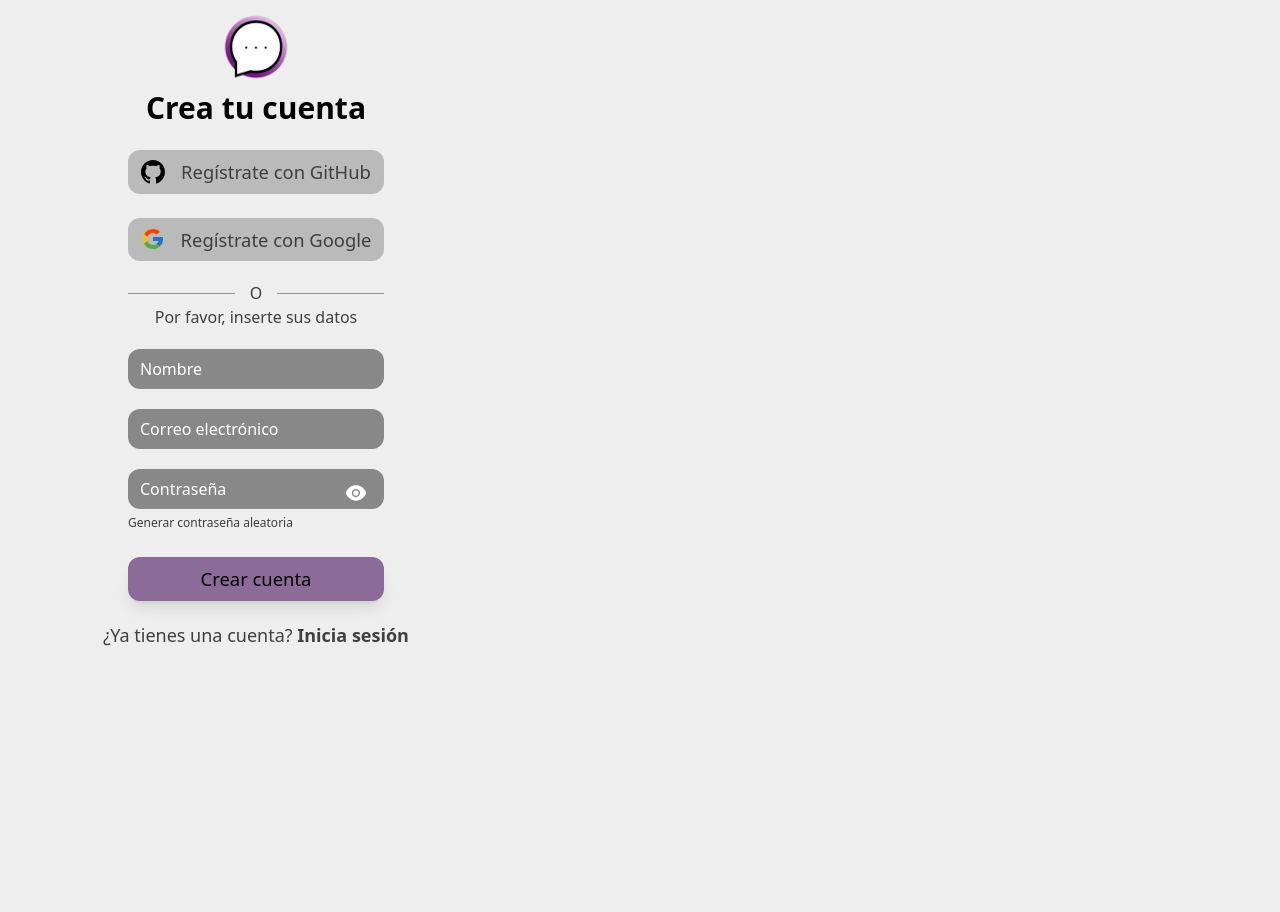
Test: Register › check that email error appear in the document if value of input not have an email format
Step 1. Type "notFormatEmail" into the field with placeholder "Correo electrónico" → (256, 429), box [128, 409, 384, 449]
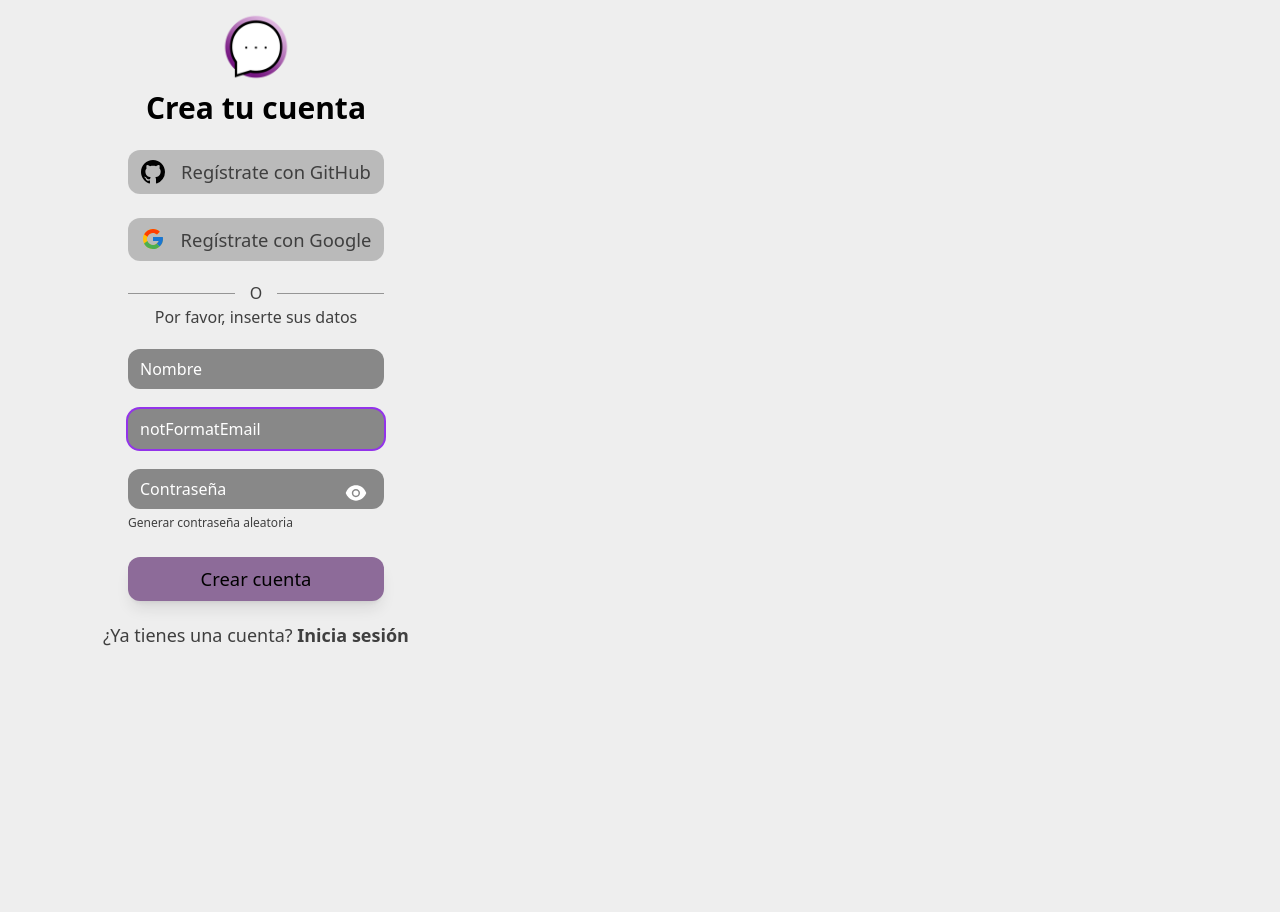
// Hacemos clic fuera del input
Step 2. Click the element that starts with "Crea tu cuenta" → click(640, 330), box [0, 12, 1279, 649]
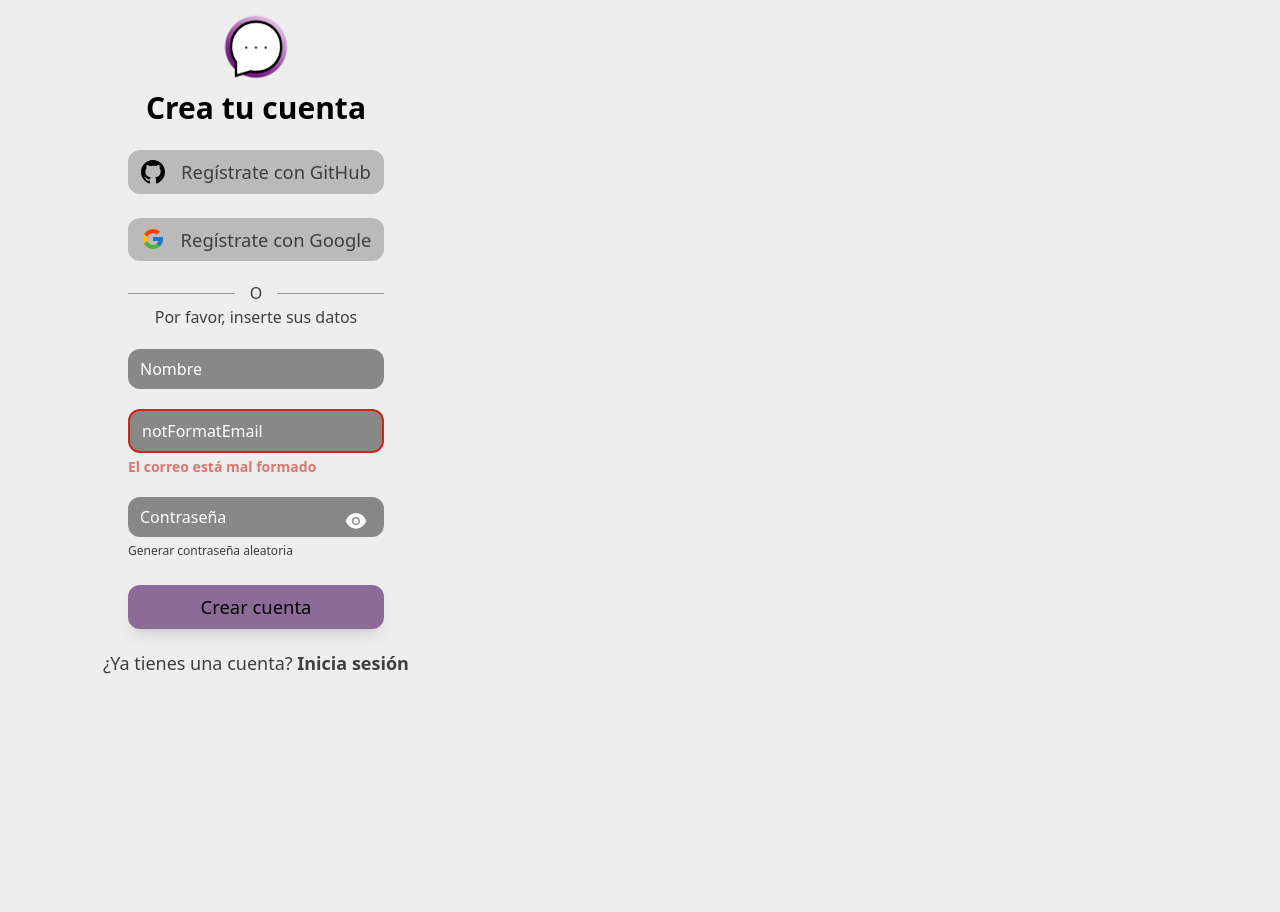
Now the text "El correo está mal formado" is shown, box [128, 457, 316, 476]
